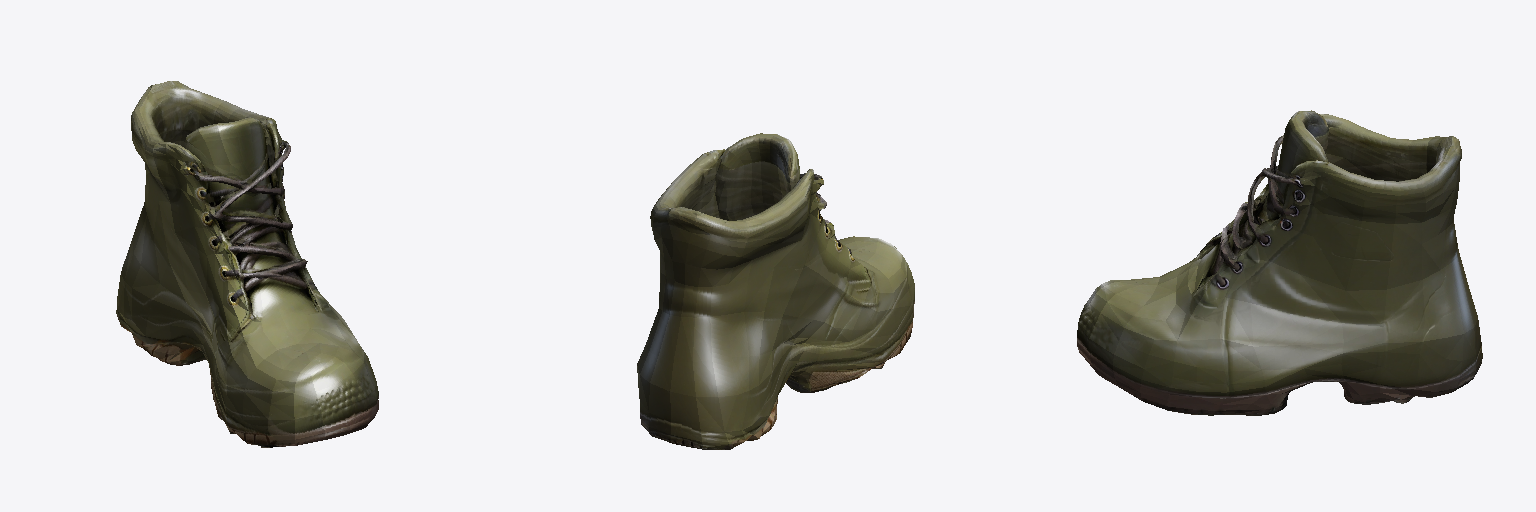
The picture shows the model from 3 angles: view 1: azimuth 30°, elevation 25°; view 2: azimuth 150°, elevation 25°; view 3: azimuth 270°, elevation 25°; orthographic projection.
Visible parts, largest first — view 1: Object; view 2: Object; view 3: Object.
Boxes of the visible parts, <box> form: Object: <box>116,81,378,447</box>; Object: <box>637,133,914,449</box>; Object: <box>1077,110,1482,415</box>.
Size of the model in its own units: 0.8231 by 1.42 by 2.
Materials: 1 (1 with a texture image).